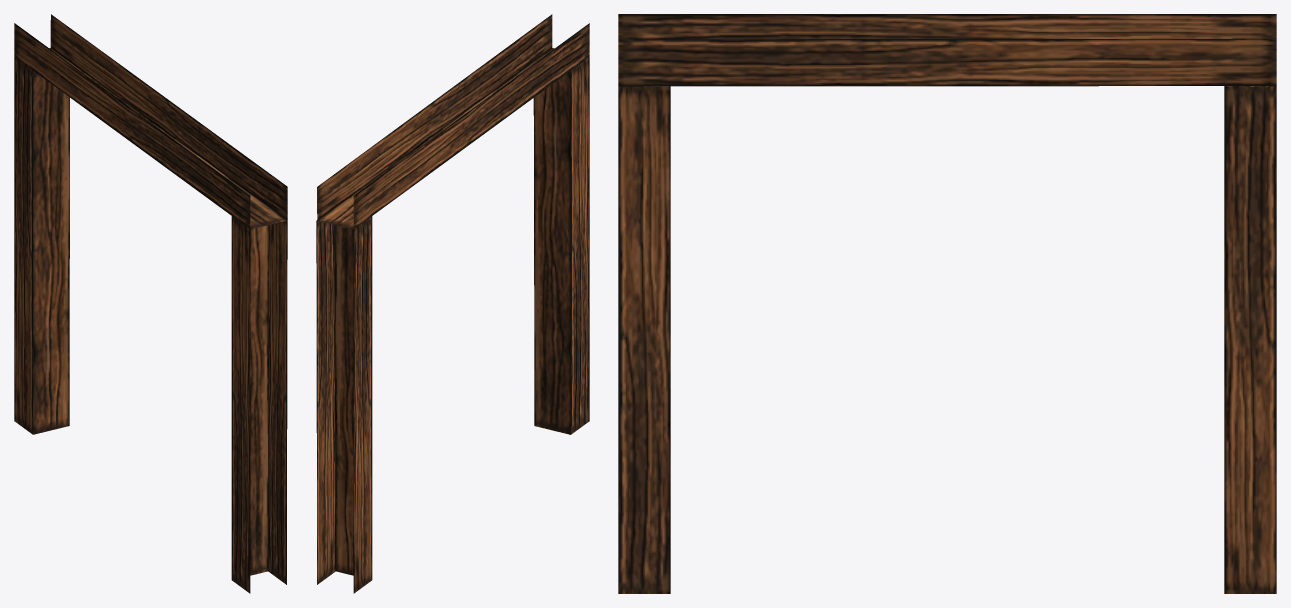
File: LAKETOWN_PUB_PS_PUB_DOORARCH_373738.fbx
The picture shows the model from 3 angles, left to right: view 1: azimuth 30°, elevation 25°; view 2: azimuth 150°, elevation 25°; view 3: azimuth 270°, elevation 25°; orthographic projection. The views are drawn at different scales.
Visible parts, largest first — view 1: LAKETOWN_PUB_PS_PUB_DOORARCH_373738; view 2: LAKETOWN_PUB_PS_PUB_DOORARCH_373738; view 3: LAKETOWN_PUB_PS_PUB_DOORARCH_373738.
Boxes of the visible parts, x1,y1,x2,y2 form: LAKETOWN_PUB_PS_PUB_DOORARCH_373738: [14, 14, 287, 593]; LAKETOWN_PUB_PS_PUB_DOORARCH_373738: [316, 14, 589, 593]; LAKETOWN_PUB_PS_PUB_DOORARCH_373738: [618, 14, 1276, 593].
Bounding box in the file's own units: 1990 × 20367 × 21881.
Materials: 1 (1 with a texture image).
